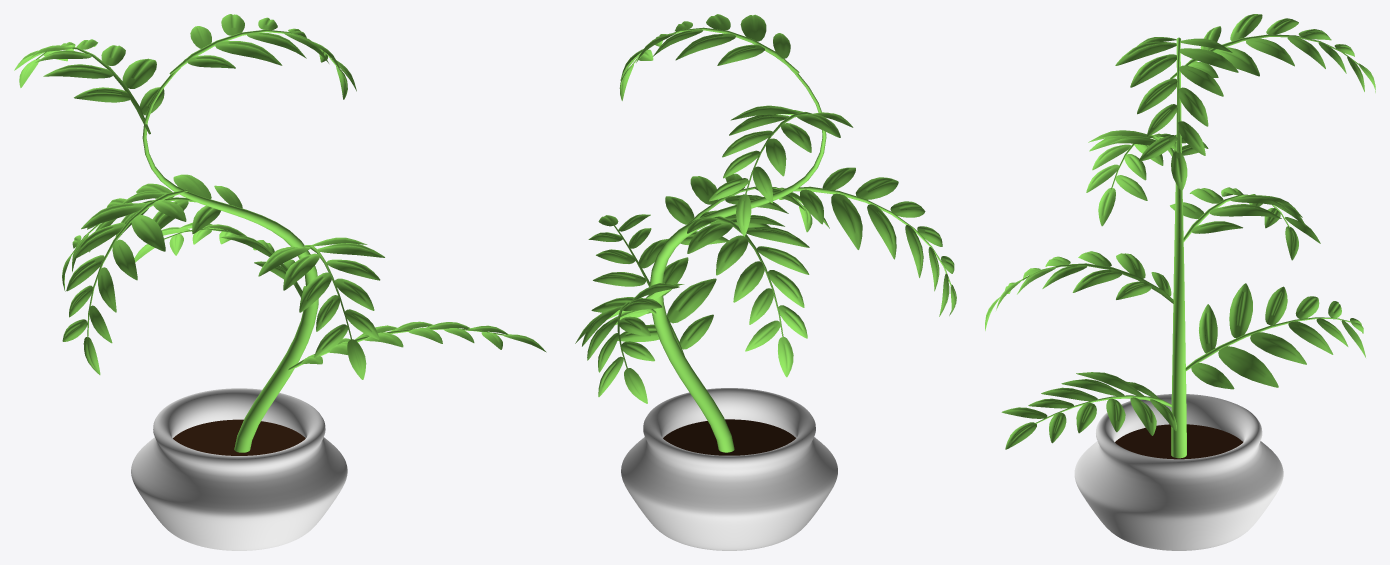
Rendered from plant-growth.gltf.
3 renders of one model, left to right at view 1: azimuth 30°, elevation 25°; view 2: azimuth 150°, elevation 25°; view 3: azimuth 270°, elevation 25°, orthographic. The views are drawn at different scales.
Visible parts, largest first — view 1: Node10, Node6, Node4, Node1, Node7, Node8, Node11, Node5, Node2, Node3; view 2: Node10, Node5, Node6, Node2, Node7, Node1, Node3, Node8, Node11, Node4; view 3: Node10, Node3, Node8, Node2, Node7, Node1, Node5, Node4, Node6, Node11.
Boxes of the visible parts, x1,y1,x2,y2 form: Node10: [131, 388, 347, 550]; Node6: [62, 189, 187, 374]; Node4: [258, 237, 384, 379]; Node1: [142, 59, 318, 452]; Node7: [14, 39, 164, 134]; Node8: [169, 14, 356, 99]; Node11: [173, 419, 305, 455]; Node5: [62, 174, 242, 291]; Node2: [288, 321, 546, 370]; Node3: [134, 222, 305, 298]; Node10: [621, 388, 837, 550]; Node5: [687, 215, 809, 377]; Node6: [781, 167, 956, 316]; Node2: [588, 214, 716, 356]; Node7: [709, 105, 853, 236]; Node1: [649, 58, 826, 452]; Node3: [575, 283, 684, 403]; Node8: [619, 14, 799, 100]; Node11: [663, 419, 795, 455]; Node4: [665, 173, 829, 245]; Node10: [1074, 394, 1283, 550]; Node3: [1185, 283, 1365, 389]; Node8: [1115, 37, 1238, 190]; Node2: [1001, 372, 1176, 449]; Node7: [1170, 14, 1375, 92]; Node1: [1171, 45, 1186, 458]; Node5: [1170, 187, 1320, 260]; Node4: [985, 251, 1173, 330]; Node6: [1086, 130, 1208, 226]; Node11: [1115, 424, 1243, 459].
Size of what is drawn, in the model's own units: 6.22 by 7.1 by 5.28.
